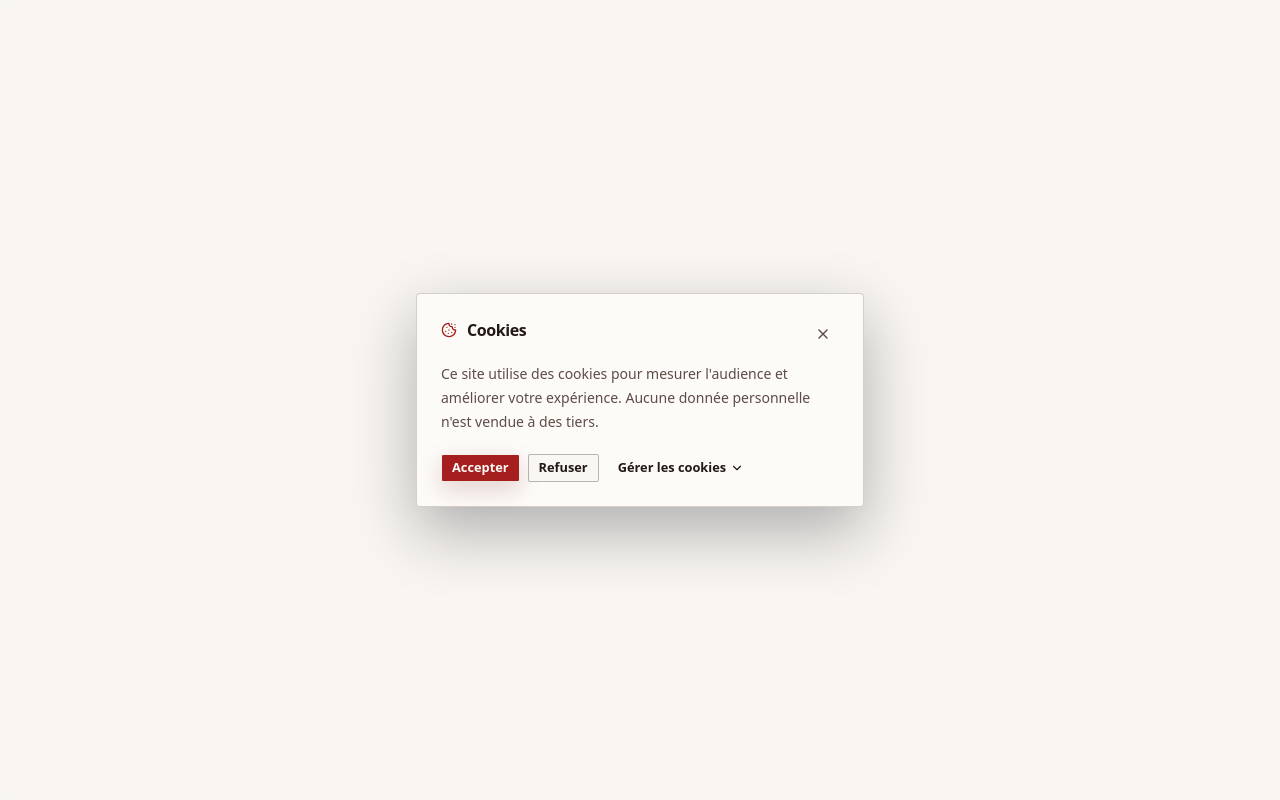
Visual Regression › cookie consent with expanded preferences
Click the button "Gérer les cookies". click: [681, 468]
box: [607,454,755,482]
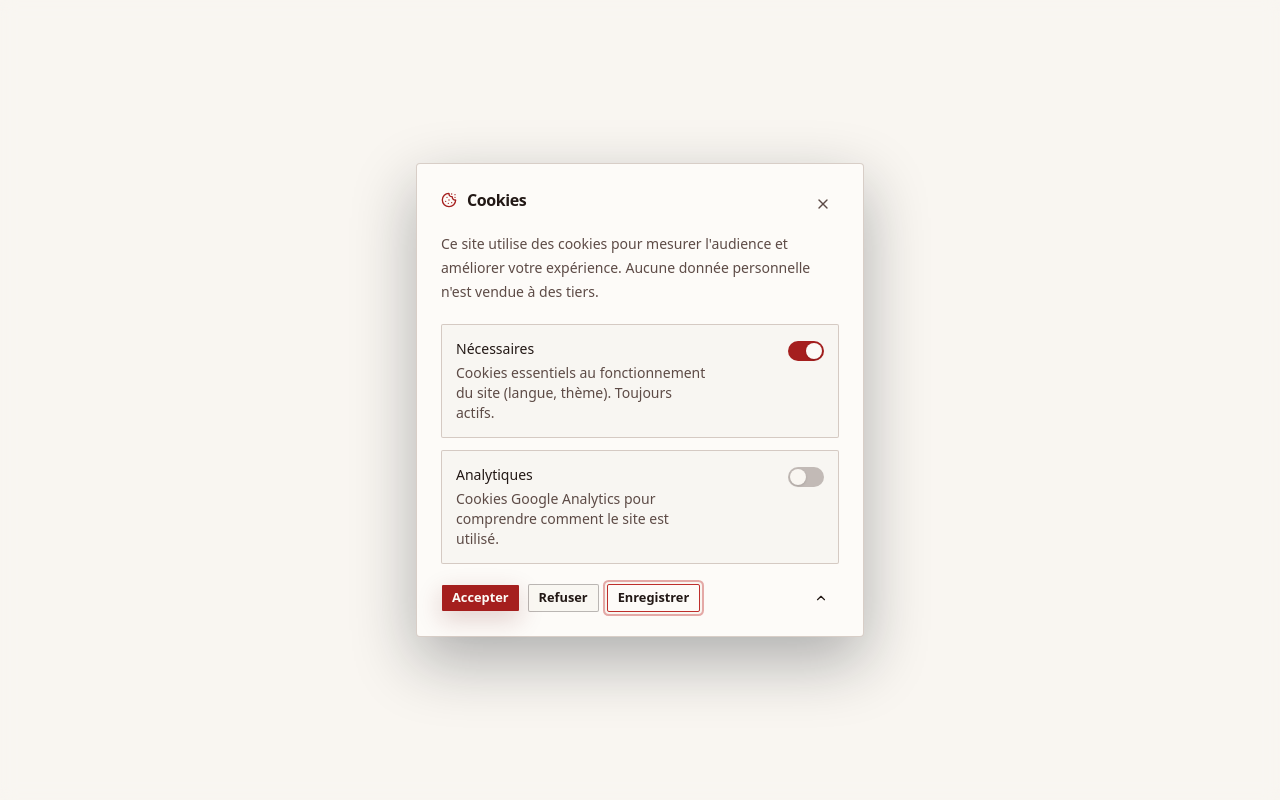
expect the text "Analytiques" is shown: met, box [456,465,533,484]
